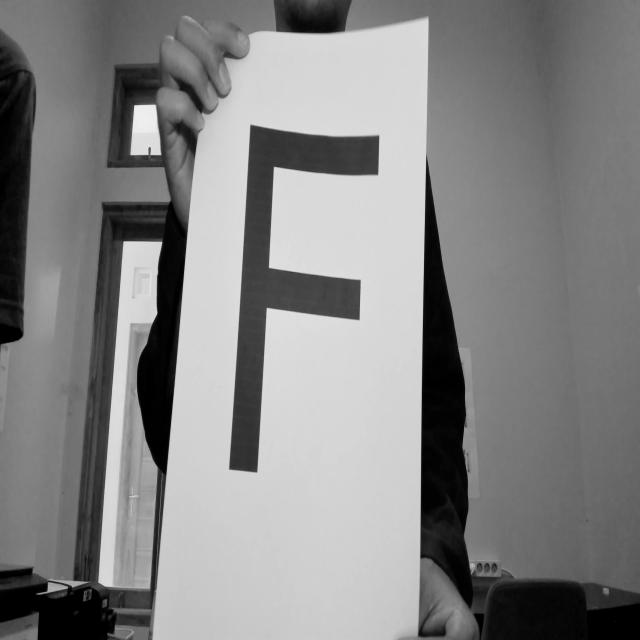f: (220, 114, 382, 505)
